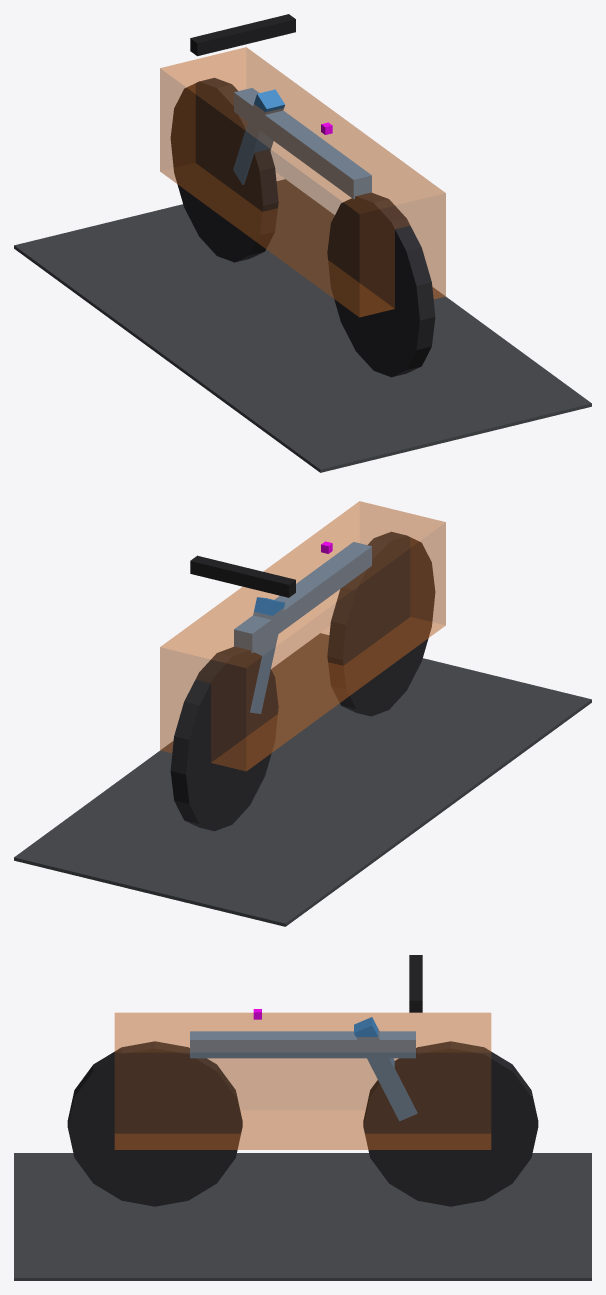
File: Bicycle.obj
3 views of the same model, one above another, from view 1: azimuth 30°, elevation 25°; view 2: azimuth 150°, elevation 25°; view 3: azimuth 270°, elevation 25° (orthographic). The views are drawn at different scales.
Visible parts, largest first — view 1: Ref_Ground, Ref_Chassis, Wheel_R, Wheel_F, Ref_Frame, Ref_Handlebar, Ref_FrameDown; view 2: Ref_Ground, Ref_Chassis, Wheel_R, Wheel_F, Ref_Frame, Ref_Handlebar, Ref_FrameDown; view 3: Ref_Ground, Ref_Chassis, Wheel_R, Wheel_F, Ref_Frame, Ref_FrameDown, Ref_Handlebar.
Part boxes in pixels (x1,y1,x2,y2): Ref_Ground: (14,179,591,472); Ref_Chassis: (160,47,445,317); Wheel_R: (327,192,435,377); Wheel_F: (170,77,278,262); Ref_Frame: (234,88,371,199); Ref_Handlebar: (190,14,295,56); Ref_FrameDown: (233,89,284,184); Ref_Ground: (14,633,591,926); Ref_Chassis: (160,501,445,771); Wheel_R: (327,531,435,716); Wheel_F: (170,646,278,831); Ref_Frame: (234,542,371,653); Ref_Handlebar: (190,555,295,597); Ref_FrameDown: (250,597,284,713); Ref_Ground: (14,1153,591,1280); Ref_Chassis: (114,1012,491,1149); Wheel_R: (67,1041,242,1206); Wheel_F: (363,1041,538,1206); Ref_Frame: (190,1031,415,1058); Ref_FrameDown: (354,1017,417,1121); Ref_Handlebar: (409,955,422,1012).
Size of the model in its own units: 4.4 by 3.95 by 8.6.
